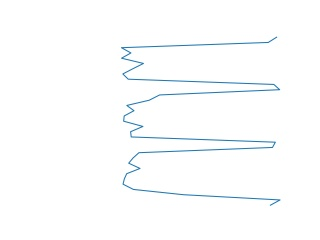majorRiverChannelBar: (117, 35, 285, 205)
